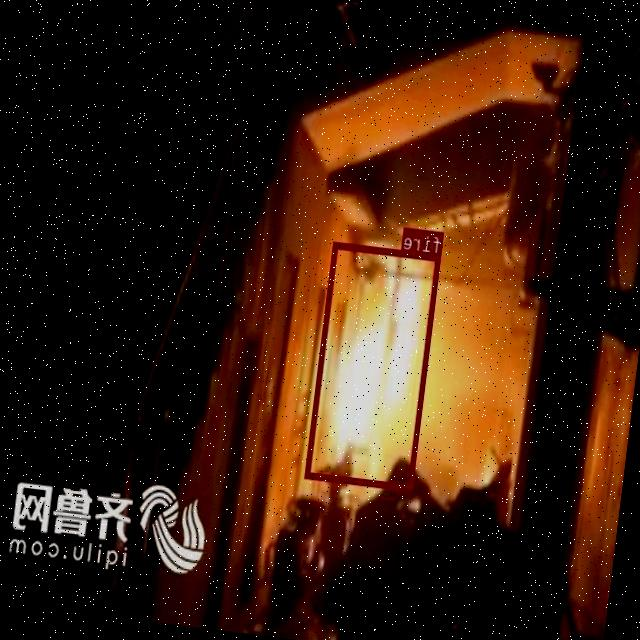fire: (306, 240, 442, 490)
